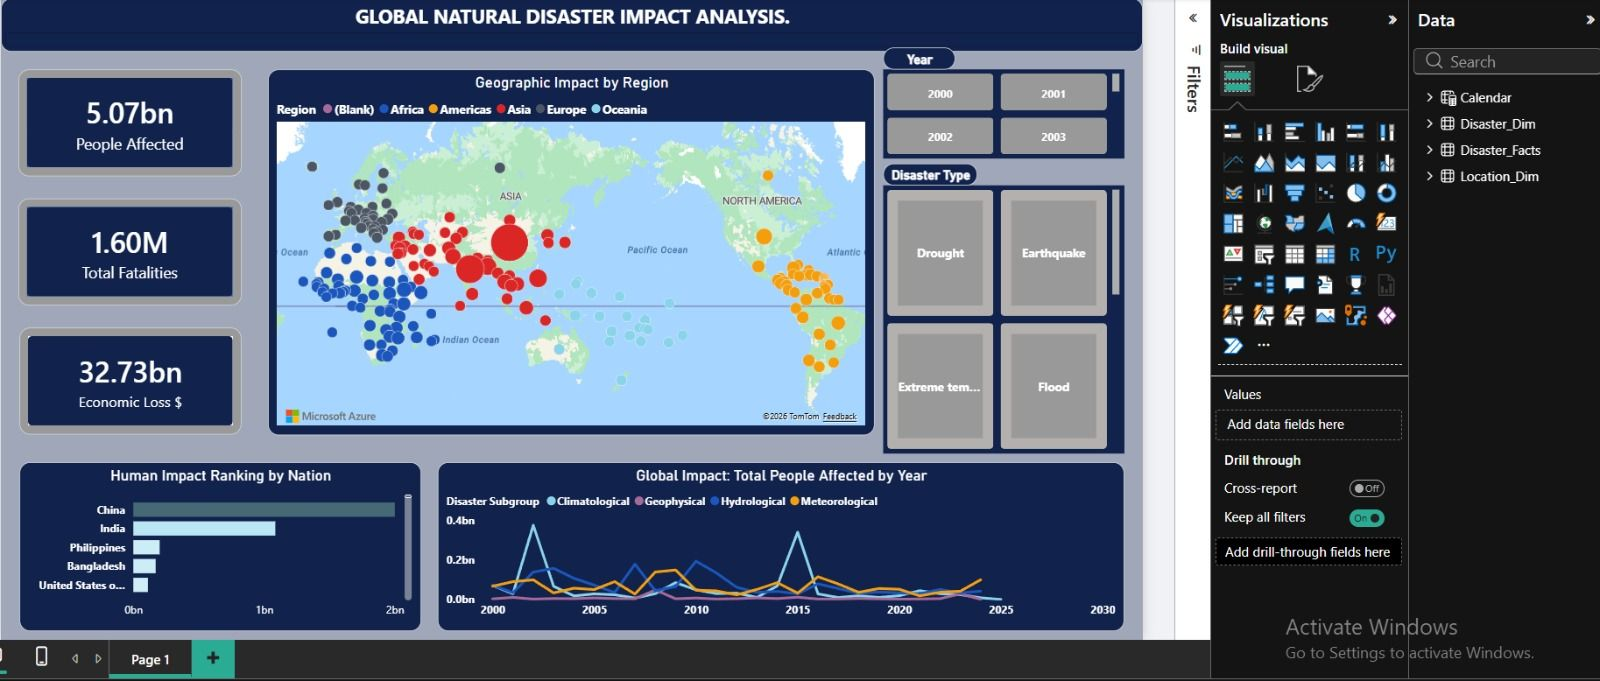

Layout of this report page (visuals, bound fields, positions):
{"tool":"powerbi","page":{"name":"Page 1","canvas":[1280,720],"ordinal":0},"visuals":[{"type":"lineChart","title":"Global Impact: Total People Affected by Year","fields":{"Category":["Calendar.Year"],"Y":["Sum(Disaster_Facts.Total Affected)"],"Series":["Disaster_Dim.Disaster Subgroup"]},"box":[489.9,520.1,769.8,189.4],"z":0},{"type":"azureMap","title":"Geographic Impact by Region","fields":{"Category":["Location_Dim.Country"],"Size":["Sum(Disaster_Facts.Total Affected)"],"Series":["Location_Dim.Region"]},"box":[300,80,680,410],"z":1000},{"type":"cardVisual","fields":{"Data":["Sum(Disaster_Facts.Total Affected)"]},"box":[19.6,79.8,250.3,120.2],"z":2000},{"type":"cardVisual","fields":{"Data":["Sum(Disaster_Facts.Total Damage $)"]},"box":[20.9,369.3,249.1,120.2],"z":3000},{"type":"advancedSlicerVisual","fields":{"Values":["Calendar.Year"]},"box":[989.4,79.6,270.3,100],"z":4000},{"type":"advancedSlicerVisual","fields":{"Values":["Disaster_Dim.Disaster Type"]},"box":[989.4,209.9,270.3,300.5],"z":5000},{"type":"clusteredBarChart","title":"Human Impact Ranking by Nation","fields":{"Category":["Location_Dim.Country"],"Y":["Sum(Disaster_Facts.Total Affected)"]},"box":[20.6,520.1,450.1,189.4],"z":6000},{"type":"shape","title":"GLOBAL NATURAL DISASTER IMPACT ANALYSIS.","box":[0,0,1280.3,60],"z":7000},{"type":"shape","title":"Year","box":[989.4,54.9,81,24.7],"z":8000},{"type":"shape","title":"Disaster Type","box":[989.4,185.2,105.7,24.7],"z":9000},{"type":"cardVisual","fields":{"Data":["Sum(Disaster_Facts.Total Deaths)"]},"box":[19.6,224.5,250.3,120.2],"z":10000}]}

Visuals, with their boxes in screenshot pixels (x1, y1, x2, y2):
"Global Impact: Total People Affected by Year" lineChart: 431:458:1122:628
"Geographic Impact by Region" azureMap: 261:63:871:431
cardVisual - Sum(Disaster_Facts.Total Affected): 9:63:234:171
cardVisual - Sum(Disaster_Facts.Total Damage $): 10:323:234:431
advancedSlicerVisual - Calendar.Year: 879:63:1122:153
advancedSlicerVisual - Disaster_Dim.Disaster Type: 879:180:1122:450
"Human Impact Ranking by Nation" clusteredBarChart: 10:458:414:628
"GLOBAL NATURAL DISASTER IMPACT ANALYSIS." shape: 0:0:1140:46
"Year" shape: 879:41:952:63
"Disaster Type" shape: 879:158:974:180
cardVisual - Sum(Disaster_Facts.Total Deaths): 9:193:234:301
